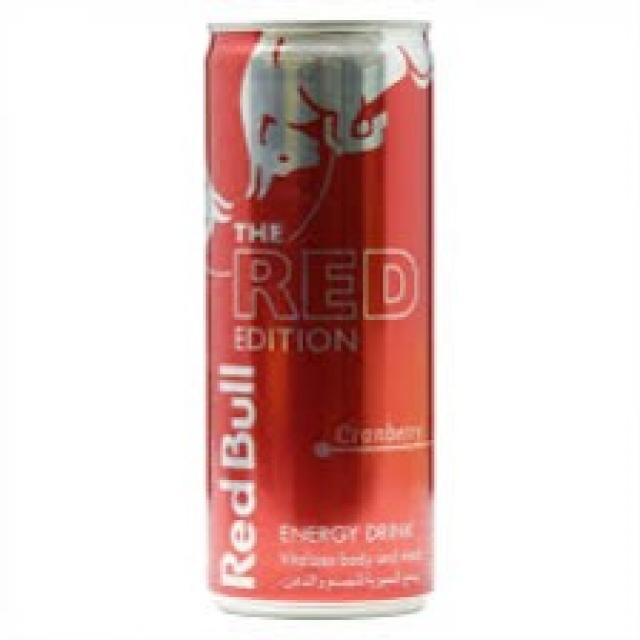metel: (176, 1, 449, 620)
